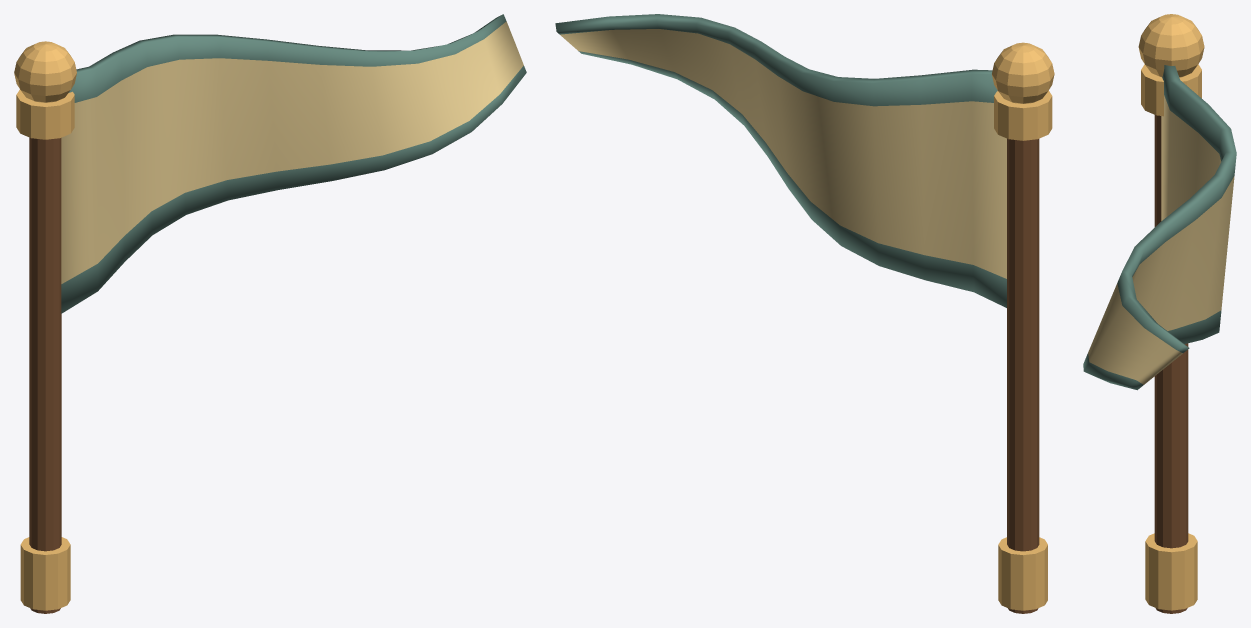
The model's file is march_pennant.glb.
The picture shows the model from 3 angles, left to right: view 1: azimuth 30°, elevation 25°; view 2: azimuth 150°, elevation 25°; view 3: azimuth 270°, elevation 25°; orthographic projection. The views are drawn at different scales.
Visible parts, largest first — view 1: Feldwimpel, Eschenstange, Schuh, Knauf, Beschlag oben; view 2: Feldwimpel, Eschenstange, Schuh, Knauf, Beschlag oben; view 3: Feldwimpel, Eschenstange, Schuh, Knauf, Beschlag oben.
Part boxes in pixels (left/top/right/bottom): Feldwimpel: left=61, top=14, right=526, bottom=313; Eschenstange: left=29, top=137, right=61, bottom=613; Schuh: left=20, top=537, right=70, bottom=610; Knauf: left=14, top=41, right=76, bottom=102; Beschlag oben: left=16, top=89, right=74, bottom=139; Feldwimpel: left=555, top=14, right=1006, bottom=307; Eschenstange: left=1007, top=138, right=1039, bottom=613; Schuh: left=998, top=537, right=1047, bottom=610; Knauf: left=992, top=42, right=1054, bottom=103; Beschlag oben: left=994, top=90, right=1052, bottom=140; Feldwimpel: left=1083, top=65, right=1236, bottom=390; Eschenstange: left=1154, top=115, right=1188, bottom=613; Schuh: left=1145, top=533, right=1197, bottom=610; Knauf: left=1138, top=14, right=1204, bottom=77; Beschlag oben: left=1141, top=64, right=1201, bottom=116.
Size of the model in its own units: 1.48 by 1.62 by 0.3815.
